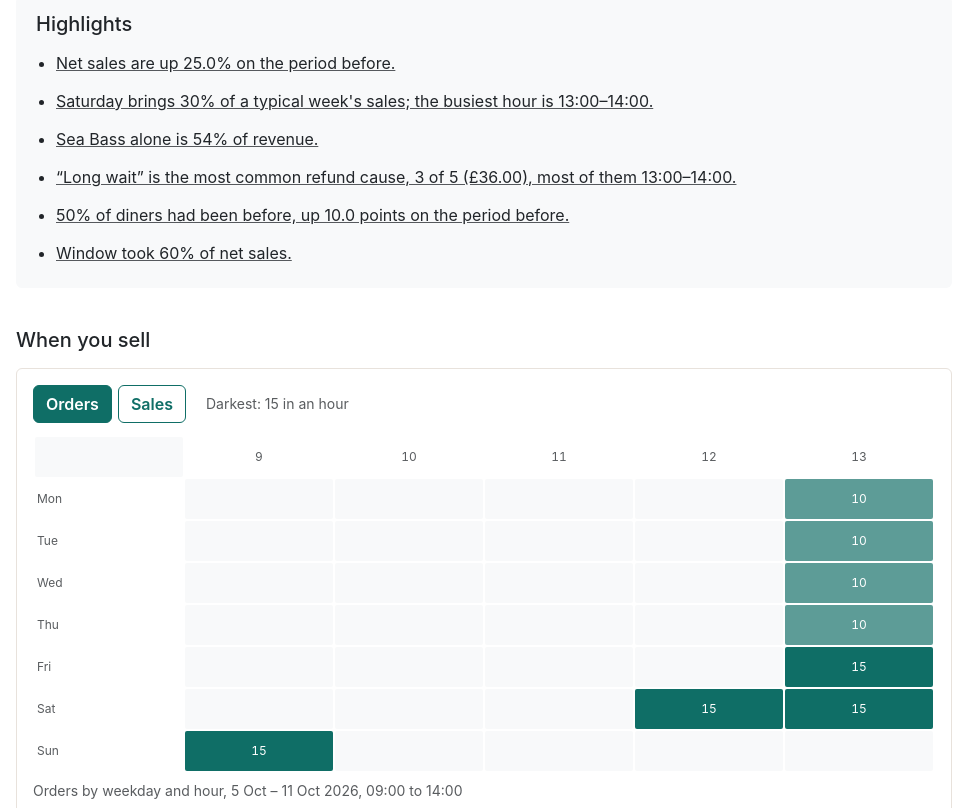
Scenario: the sections of the sales page › draws the heatmap as a table of the hours with sales, switchable to sales
(page scrolled)
Expected: the column headings read "909:00–10:00", "1010:00–11:00", "1111:00–12:00", "1212:00–13:00", "1313:00–14:00", in this order, [185,437,333,477]; [335,437,483,477]; [485,437,633,477]; [635,437,783,477]; [785,437,933,477]
Expected: the 2nd cell "15" has style "--heat: 1", [635,689,783,729]
Click the button "Sales".
click(152, 404)  # box [118,385,186,423]
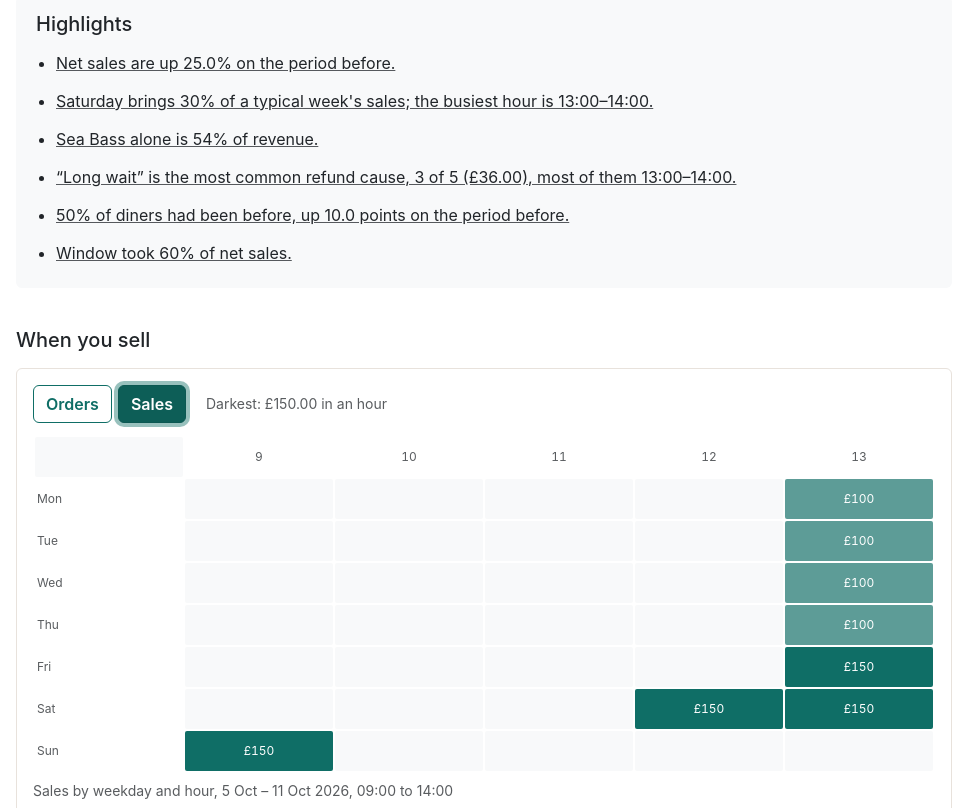
Expected: the text "Darkest: £150.00 in an hour" is shown, [206,393,387,414]
Expected: the text "Sales by weekday and hour, 5 Oct – 11 Oct 2026, 09:00 to 14:00" is shown, [33,782,453,799]
